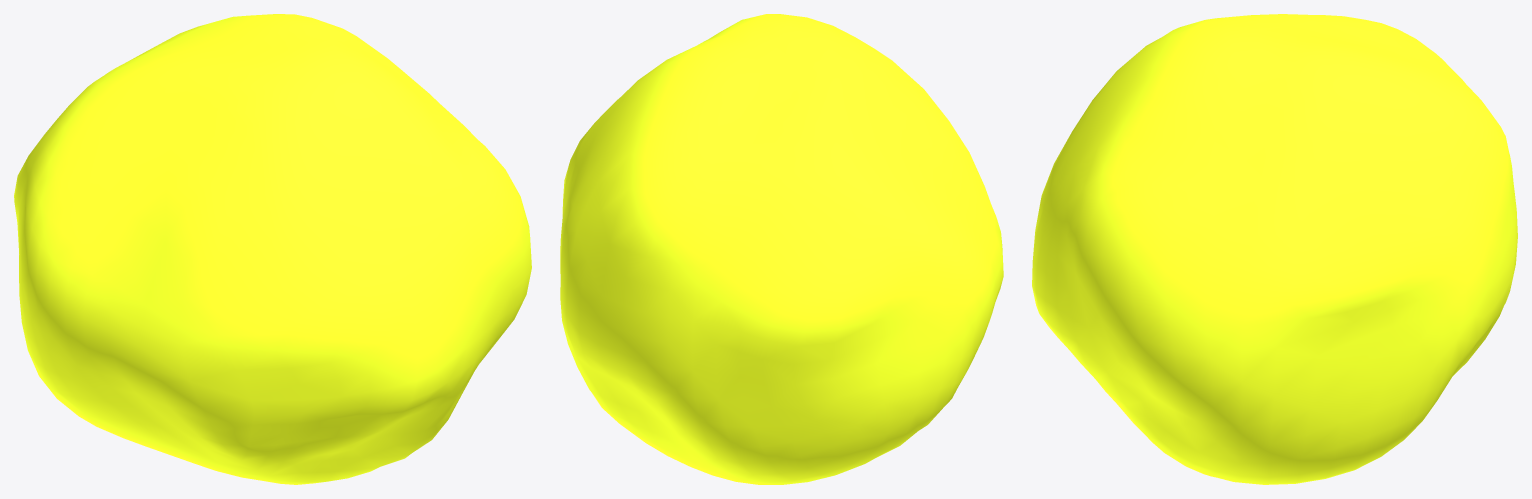
Rendered from lysosome_selected.glb.
3 views of the same model, side by side, from view 1: azimuth 30°, elevation 25°; view 2: azimuth 150°, elevation 25°; view 3: azimuth 270°, elevation 25° (orthographic). The views are drawn at different scales.
Parts seen in each view (by area): view 1: Lysosomes.001; view 2: Lysosomes.001; view 3: Lysosomes.001.
Boxes of the visible parts, x1,y1,x2,y2 form: Lysosomes.001: (14,14,531,484); Lysosomes.001: (560,14,1003,484); Lysosomes.001: (1032,14,1517,484).
Size of the model in its own units: 0.3958 by 0.3697 by 0.3779.
